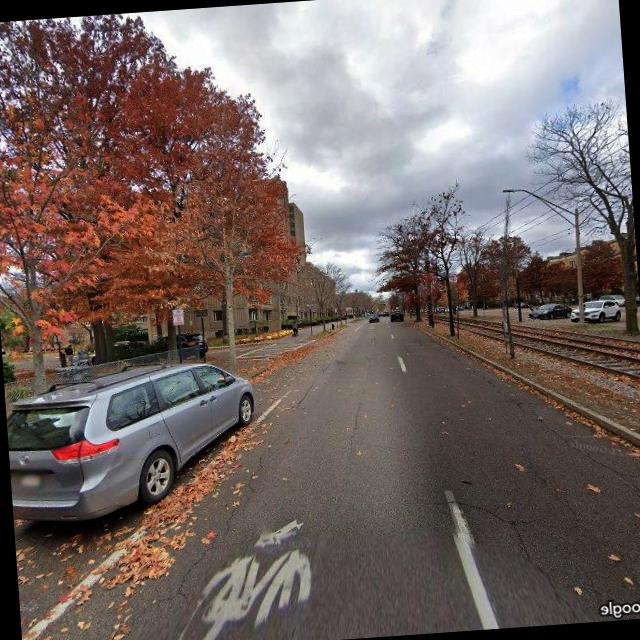pothole: (100, 419, 290, 640), (461, 348, 640, 503), (428, 470, 576, 626), (338, 376, 376, 456)
